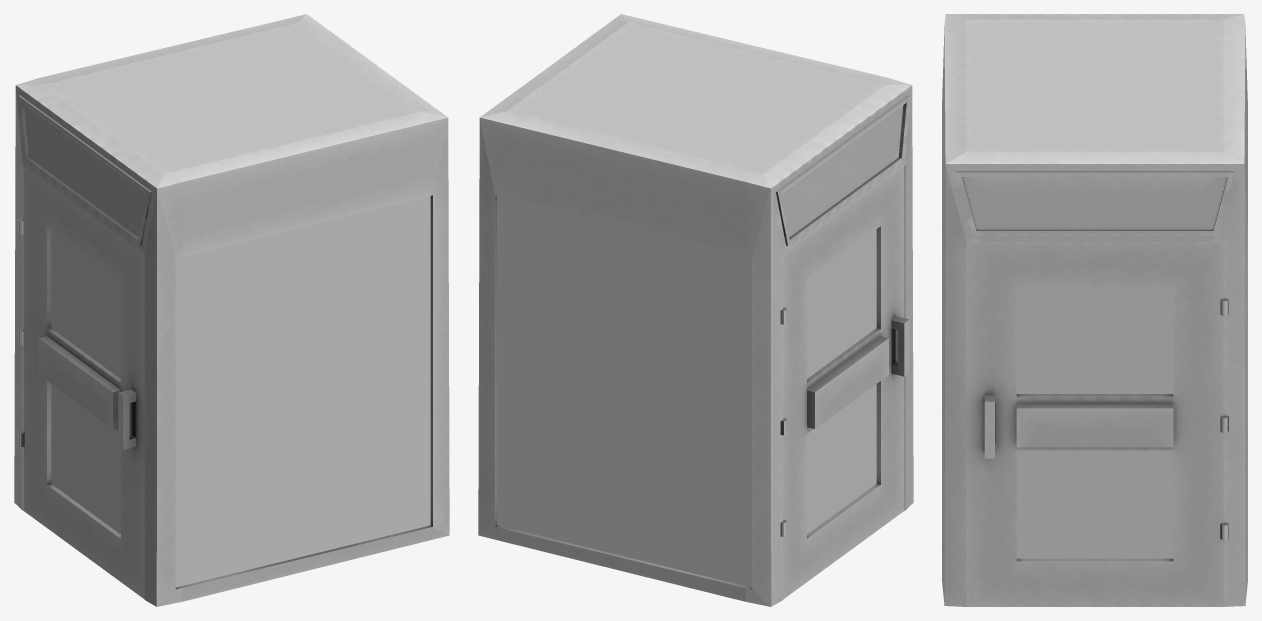
File: Ducha de aire.FBX
The picture shows the model from 3 angles, left to right: view 1: azimuth 30°, elevation 25°; view 2: azimuth 150°, elevation 25°; view 3: azimuth 270°, elevation 25°; orthographic projection. The views are drawn at different scales.
Visible parts, largest first — view 1: ducha_de_aire, glassCabina, puerta_ducha_aire001, glassDoor; view 2: ducha_de_aire, glassCabina001, puerta_ducha_aire001, glassDoor; view 3: ducha_de_aire, puerta_ducha_aire, glassDoor001.
Part boxes in pixels (box(x1,y1,x2,y2)): ducha_de_aire: box(14, 14, 449, 606); glassCabina: box(175, 196, 430, 587); puerta_ducha_aire001: box(18, 166, 144, 599); glassDoor: box(51, 229, 120, 534); ducha_de_aire: box(478, 14, 913, 606); glassCabina001: box(497, 196, 752, 587); puerta_ducha_aire001: box(780, 166, 909, 599); glassDoor: box(807, 229, 876, 534); ducha_de_aire: box(942, 14, 1247, 606); puerta_ducha_aire: box(966, 242, 1228, 606); glassDoor001: box(1016, 288, 1173, 558).
Bounding box in the file's own units: 245 × 305 × 190.
1 material, 1 textured.
